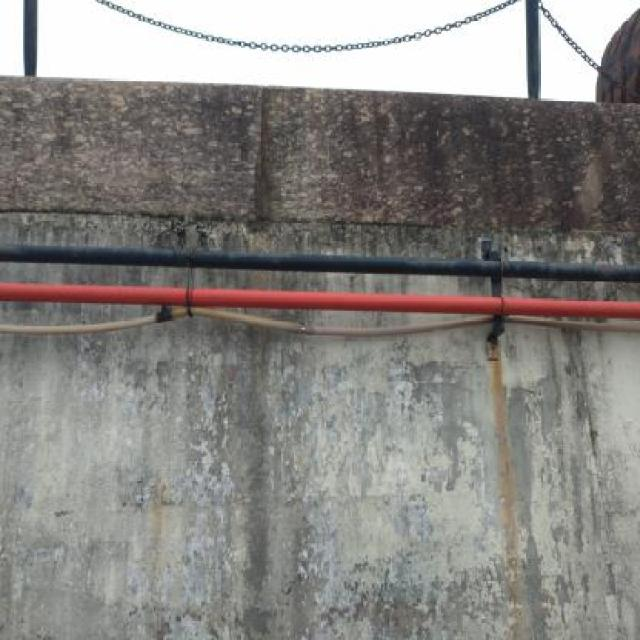gas: (3, 244, 637, 284), (1, 284, 638, 316)
